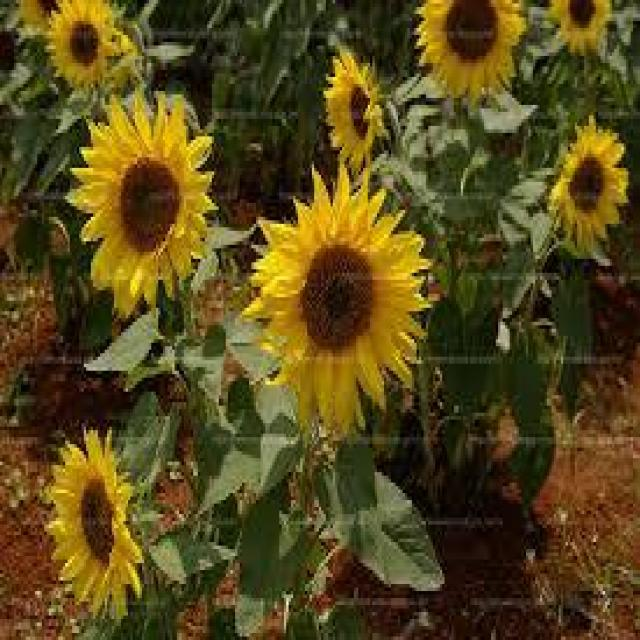organic waste: (253, 162, 434, 442), (74, 96, 215, 313), (34, 423, 157, 616), (419, 10, 526, 119), (313, 47, 404, 170), (558, 117, 628, 261), (41, 3, 145, 98), (554, 2, 614, 68)
